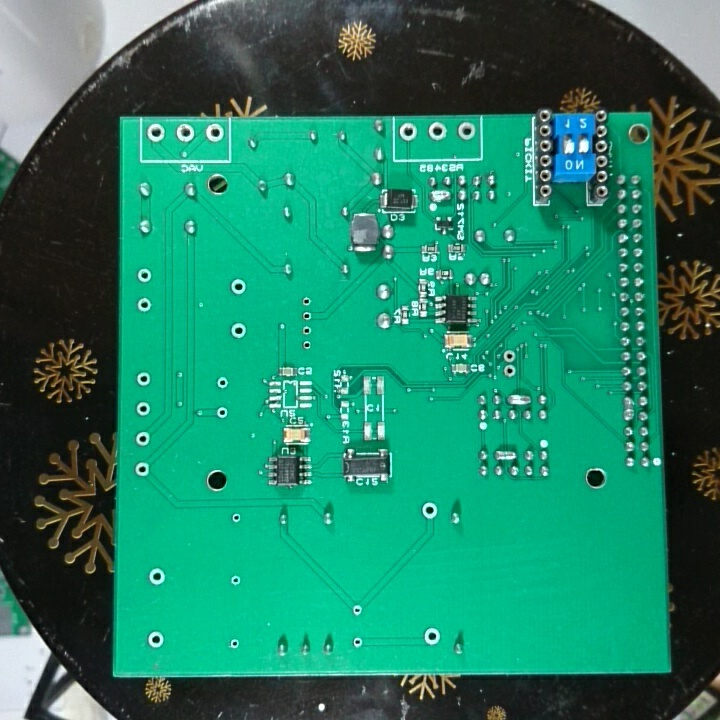F: (455, 119, 477, 143), (425, 120, 448, 142), (175, 121, 196, 145), (145, 122, 167, 144), (147, 566, 168, 589), (397, 122, 419, 143), (205, 122, 225, 145), (422, 625, 442, 647), (228, 320, 247, 343), (134, 266, 155, 286), (228, 277, 248, 298), (146, 629, 166, 649), (420, 500, 439, 521), (134, 369, 152, 389), (134, 429, 152, 449), (133, 459, 150, 480), (134, 297, 153, 315), (134, 400, 152, 419), (214, 374, 231, 392), (500, 364, 519, 380), (501, 347, 518, 364), (349, 602, 365, 618), (228, 572, 243, 589), (350, 634, 365, 651), (214, 404, 229, 421), (299, 293, 314, 309), (299, 309, 315, 323), (299, 324, 314, 338), (228, 635, 241, 651), (229, 510, 242, 526), (299, 339, 314, 352)
P: (491, 446, 519, 463), (621, 394, 637, 423), (426, 187, 453, 203), (505, 392, 533, 407)
